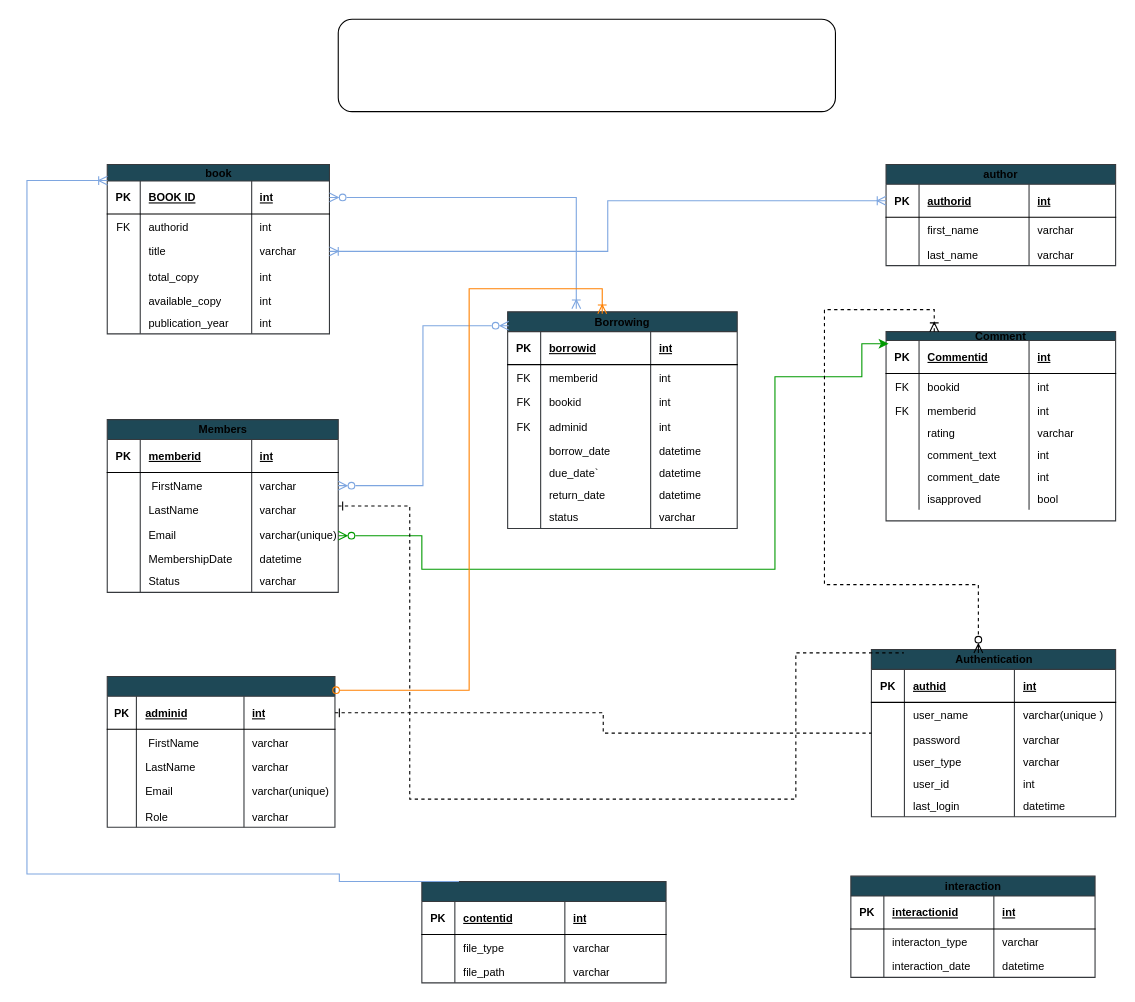
This 1135x1002 diagram has some shape labels left out. The box of each missing label's shape, as (x1, y1, x2, y2) in pixels:
Admin(staff): (106, 675, 335, 827)
digital_content: (421, 881, 666, 983)
ER Diagram: (337, 18, 835, 112)
